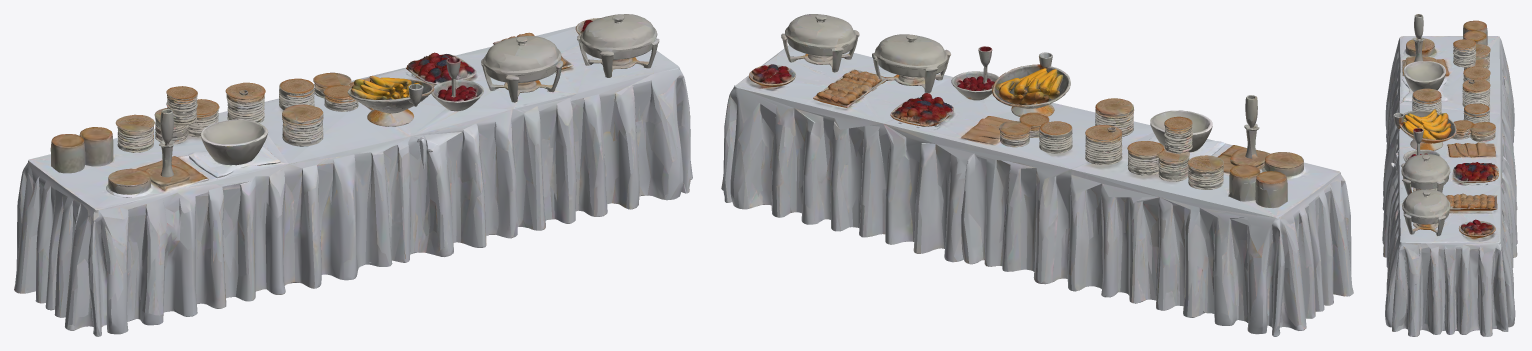
The model's file is buffetTable.glb.
The picture shows the model from 3 angles, left to right: view 1: azimuth 30°, elevation 25°; view 2: azimuth 150°, elevation 25°; view 3: azimuth 270°, elevation 25°; orthographic projection. The views are drawn at different scales.
Size of the model in its own units: 1.9 by 0.5562 by 0.4917.
1 material, 1 textured.
